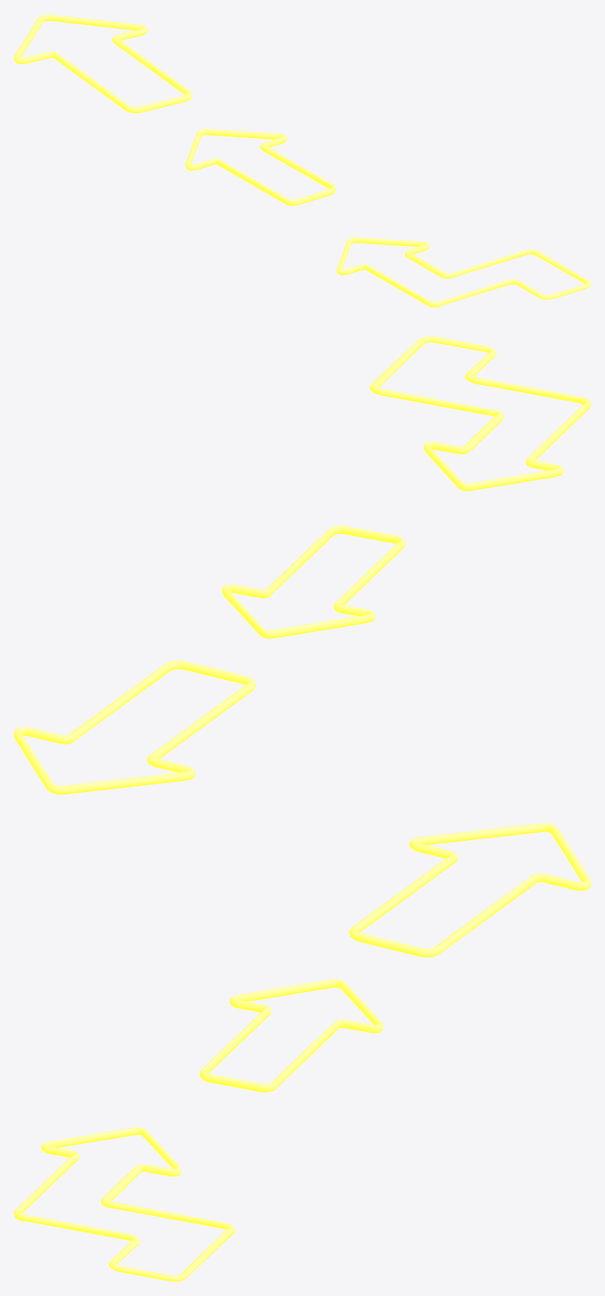
Rendered from NeonArrow.FBX.
The picture shows the model from 3 angles, top to bottom: view 1: azimuth 30°, elevation 25°; view 2: azimuth 150°, elevation 25°; view 3: azimuth 330°, elevation 25°; orthographic projection. The views are drawn at different scales.
Parts seen in each view (by area): view 1: Cylinder035, Cylinder033, Cylinder034; view 2: Cylinder035, Cylinder033, Cylinder034; view 3: Cylinder035, Cylinder033, Cylinder034.
Part boxes in pixels (x1,y1,x2,y2): Cylinder035: (337,237,590,307); Cylinder033: (14,14,192,113); Cylinder034: (185,129,335,205); Cylinder035: (369,336,590,491); Cylinder033: (14,660,255,794); Cylinder034: (222,525,405,638); Cylinder035: (14,1127,235,1281); Cylinder033: (349,823,590,957); Cylinder034: (199,979,382,1092).
Size of the model in its own units: 50.44 by 1.36 by 177.
